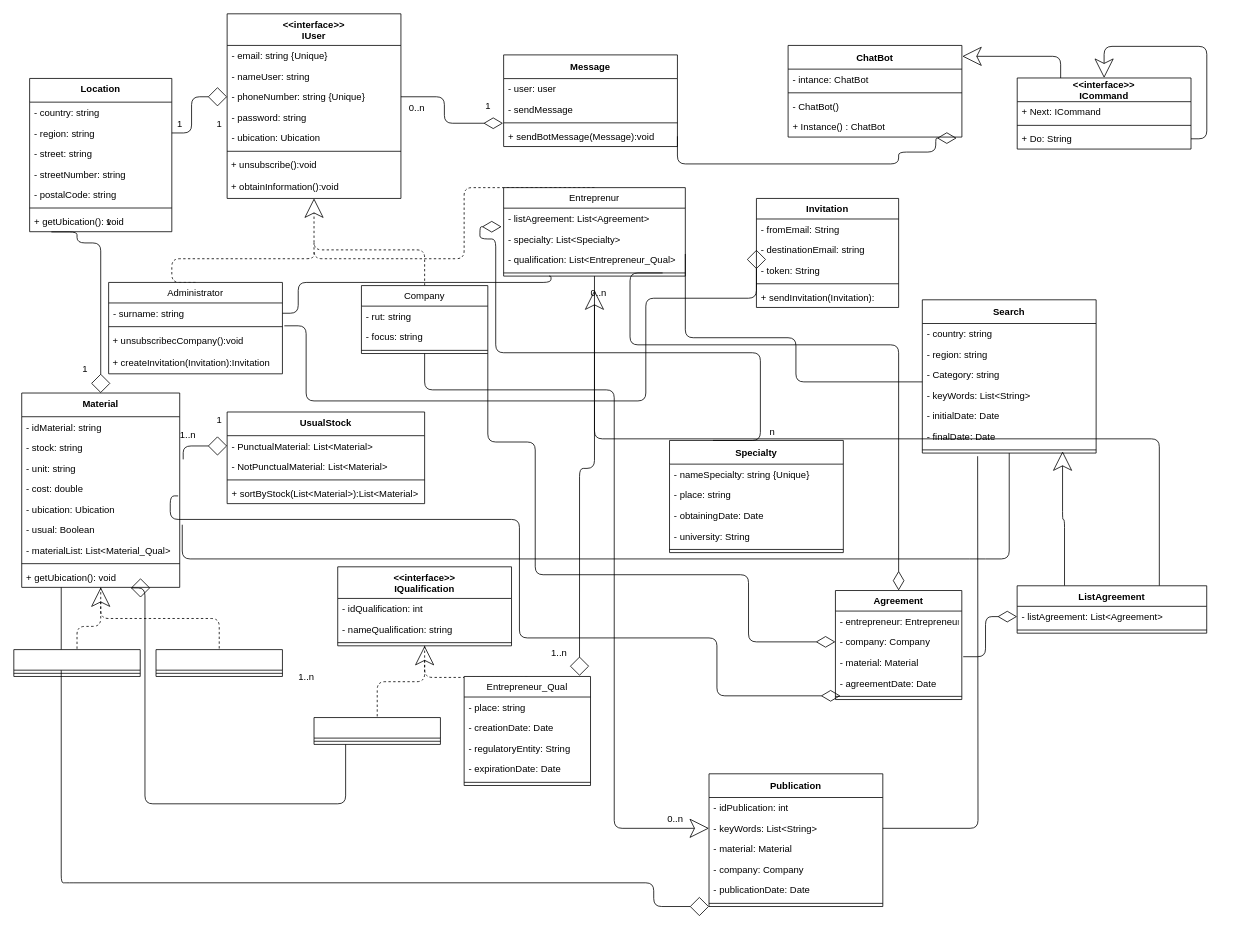
This 1240x939 diagram has some shape labels left out. The centre of each missing label's shape, as x and y in pixels:
Material_Qual: point (376, 730)
Recyclable: point (76, 662)
Residue: point (218, 662)
